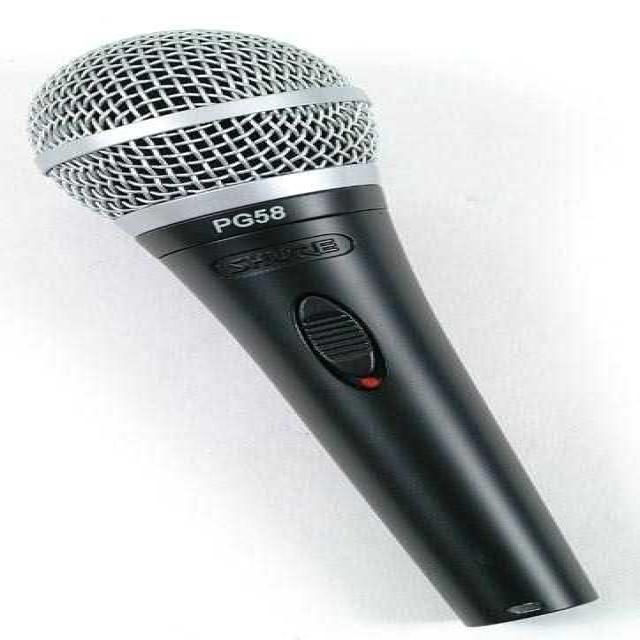microphone: (34, 27, 585, 617)
